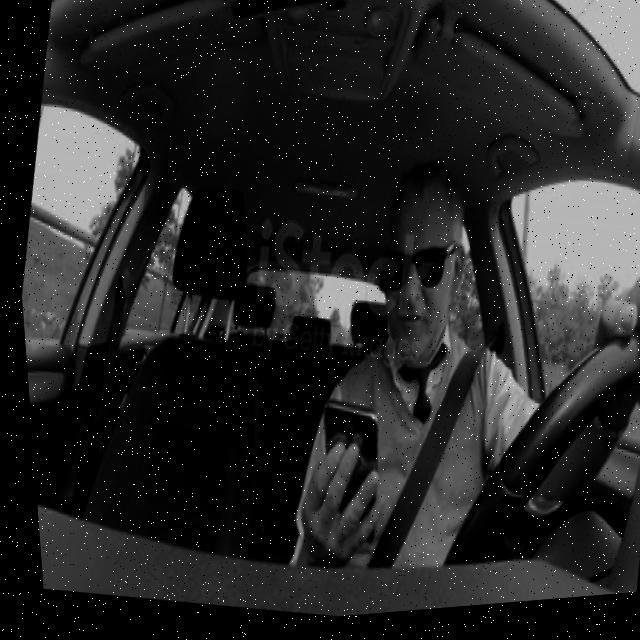PhoneCall: (290, 396, 390, 558)
